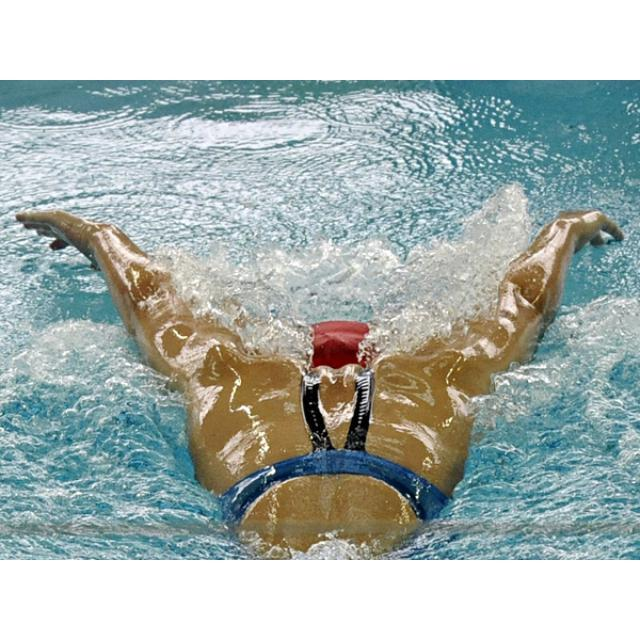human: (15, 202, 626, 557)
